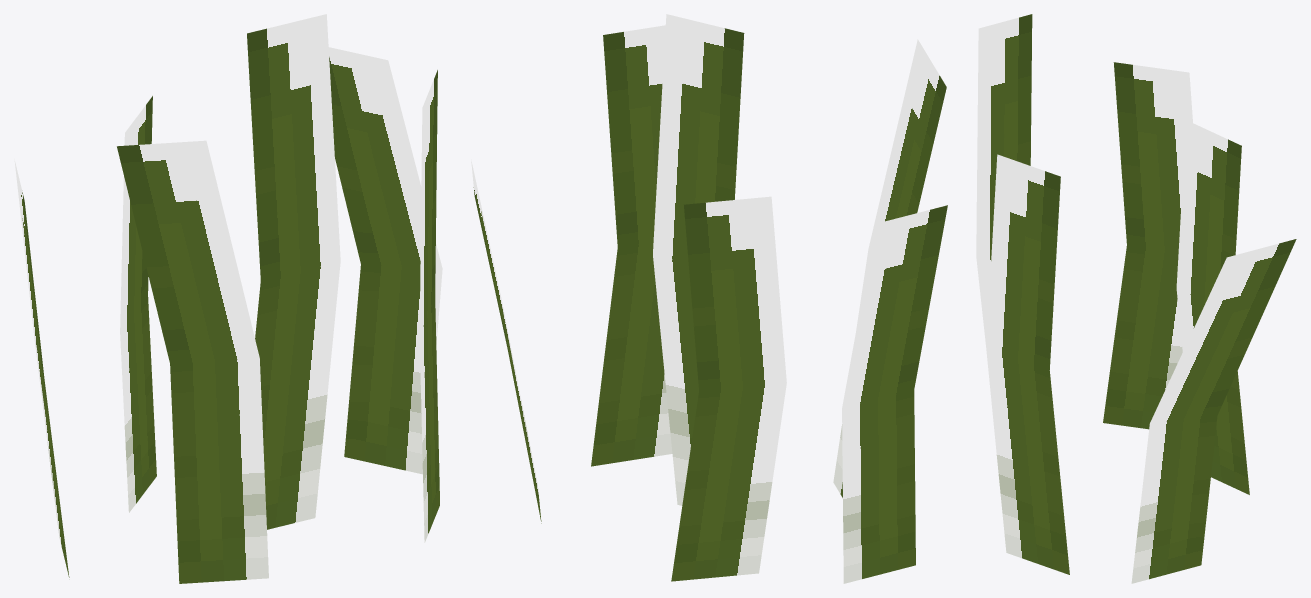
Rendered from SM_Pixelated_Grass_Clump_A.fbx.
3 views of the same model, side by side, from view 1: azimuth 30°, elevation 25°; view 2: azimuth 150°, elevation 25°; view 3: azimuth 270°, elevation 25° (orthographic). The views are drawn at different scales.
Parts seen in each view (by area): view 1: SM_Pixelated_Grass_Clump_A; view 2: SM_Pixelated_Grass_Clump_A; view 3: SM_Pixelated_Grass_Clump_A.
Boxes of the visible parts, <box> form: SM_Pixelated_Grass_Clump_A: <box>14,14,442,583</box>; SM_Pixelated_Grass_Clump_A: <box>471,14,947,583</box>; SM_Pixelated_Grass_Clump_A: <box>976,14,1296,583</box>.
Size of the model in its own units: 54.82 by 60.71 by 38.76.
